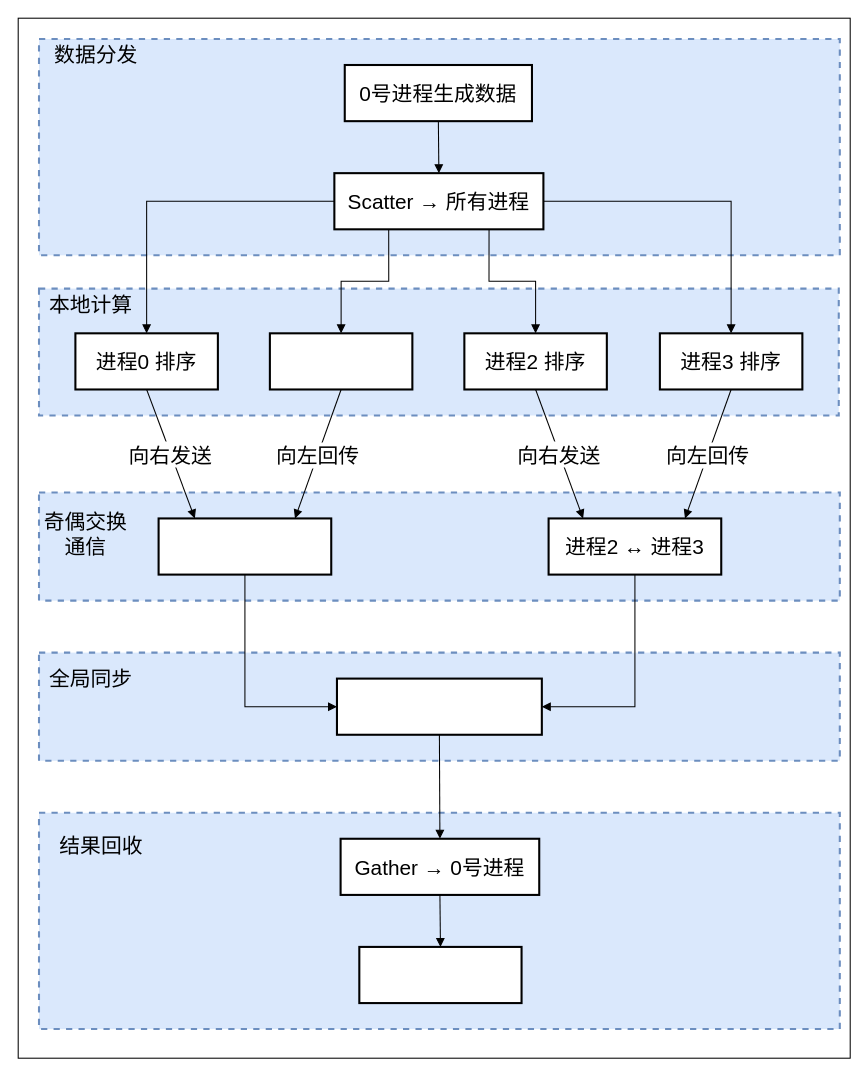
Image size: 868x1076. Some labels were removed from this diagram. The shapes that lost their labels are listed below. From the top down, each one's centre as x and y in pixels, then its label:
the point at 340,361: 进程1 排序
the point at 244,546: 进程0 ↔ 进程1
the point at 438,706: Allreduce 全局同步
the point at 440,974: 合并输出结果
